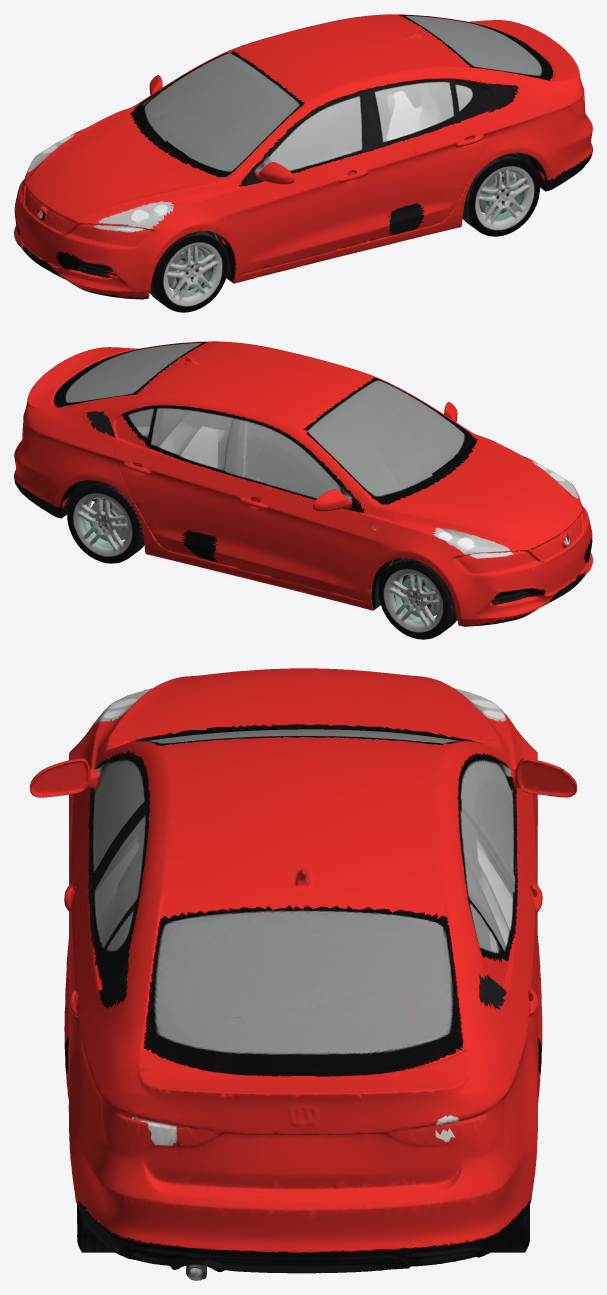
Rendered from car_optimized.glb.
3 views of the same model, one above another, from view 1: azimuth 30°, elevation 25°; view 2: azimuth 150°, elevation 25°; view 3: azimuth 270°, elevation 25° (orthographic). The views are drawn at different scales.
Visible parts, largest first — view 1: ColorEditable_Car; view 2: ColorEditable_Car; view 3: ColorEditable_Car.
Boxes of the visible parts, box(x1,y1,x2,y2) form: ColorEditable_Car: box(14, 14, 592, 312); ColorEditable_Car: box(14, 341, 592, 639); ColorEditable_Car: box(30, 668, 576, 1280).
Size of the model in its own units: 1.9 by 0.5944 by 0.8511.
Materials: 2 (1 with a texture image).
